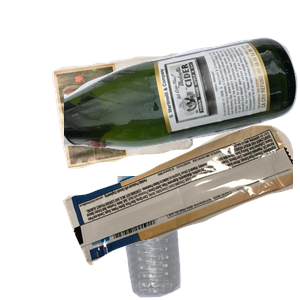glass: (64, 35, 300, 181)
paper: (49, 51, 235, 212)
plastic: (115, 176, 288, 300)
trash: (60, 123, 300, 300)
